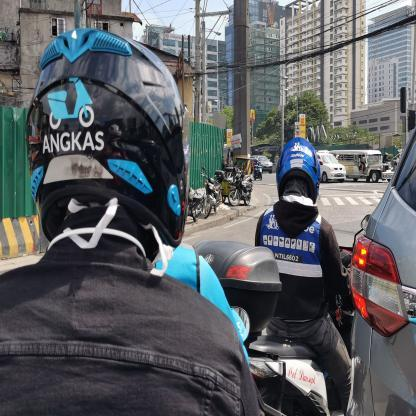helmet: (24, 28, 190, 250), (275, 136, 322, 206)
